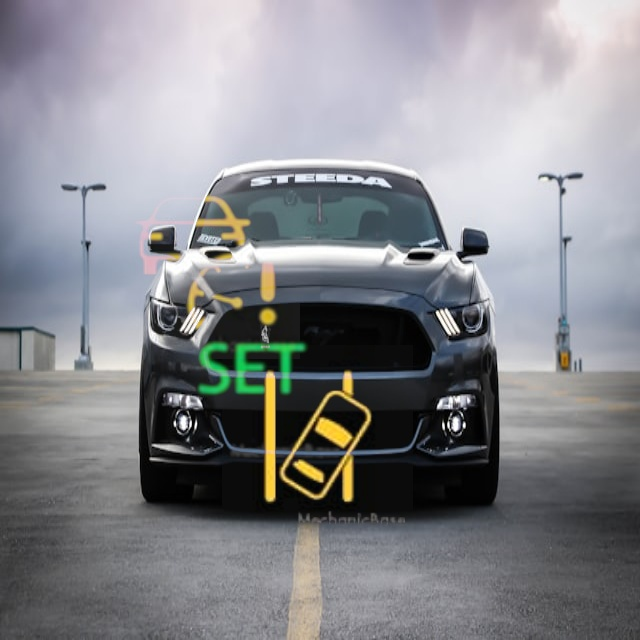symbol: (155, 274, 348, 467), (108, 167, 300, 359), (222, 345, 413, 536)
